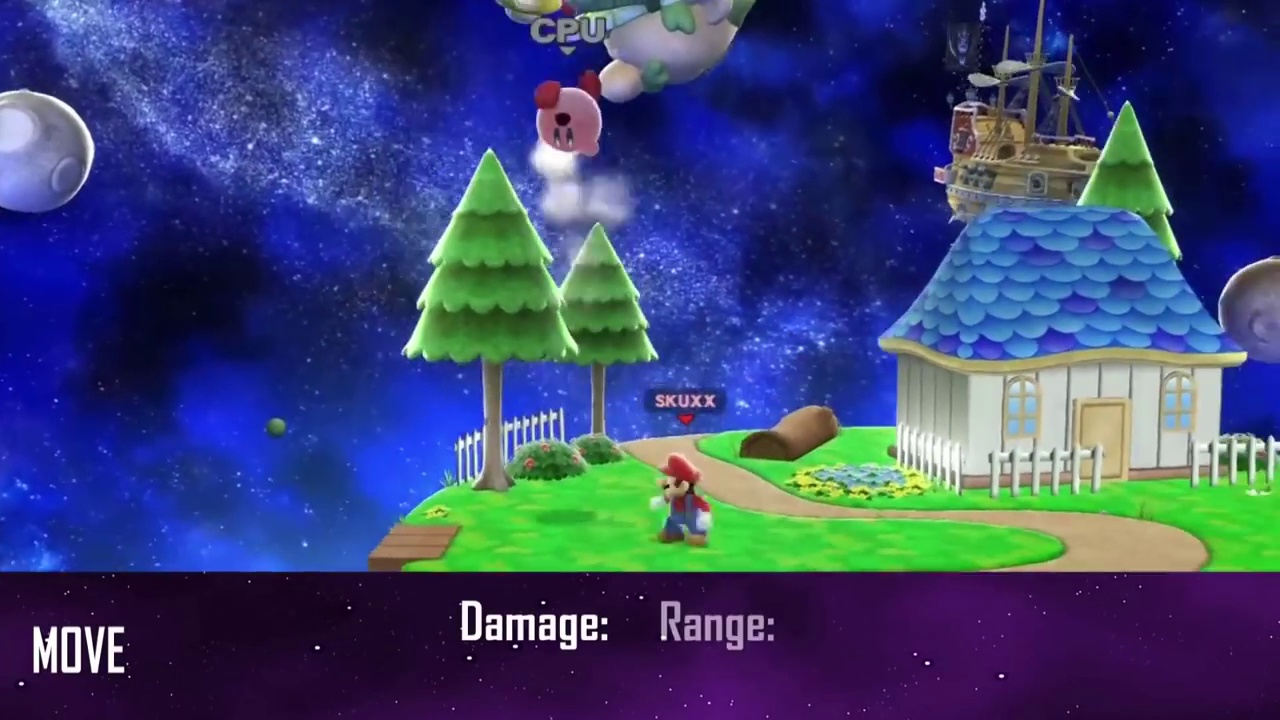Mario: (647, 455, 713, 547)
